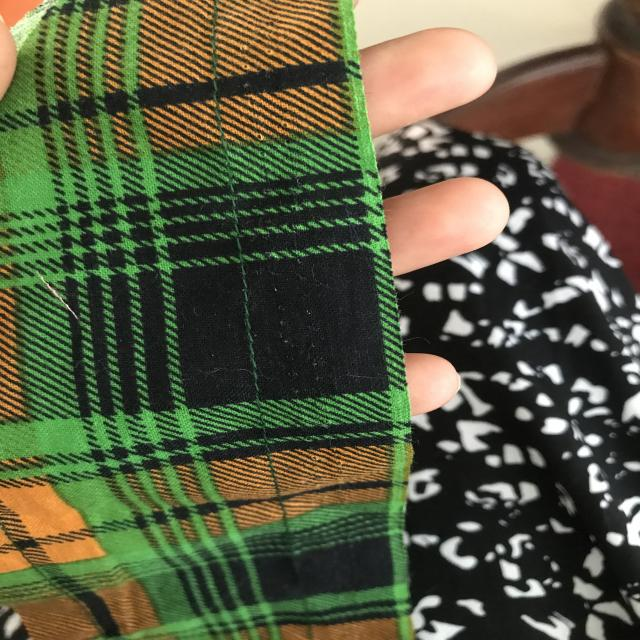good: (222, 283, 278, 382)
